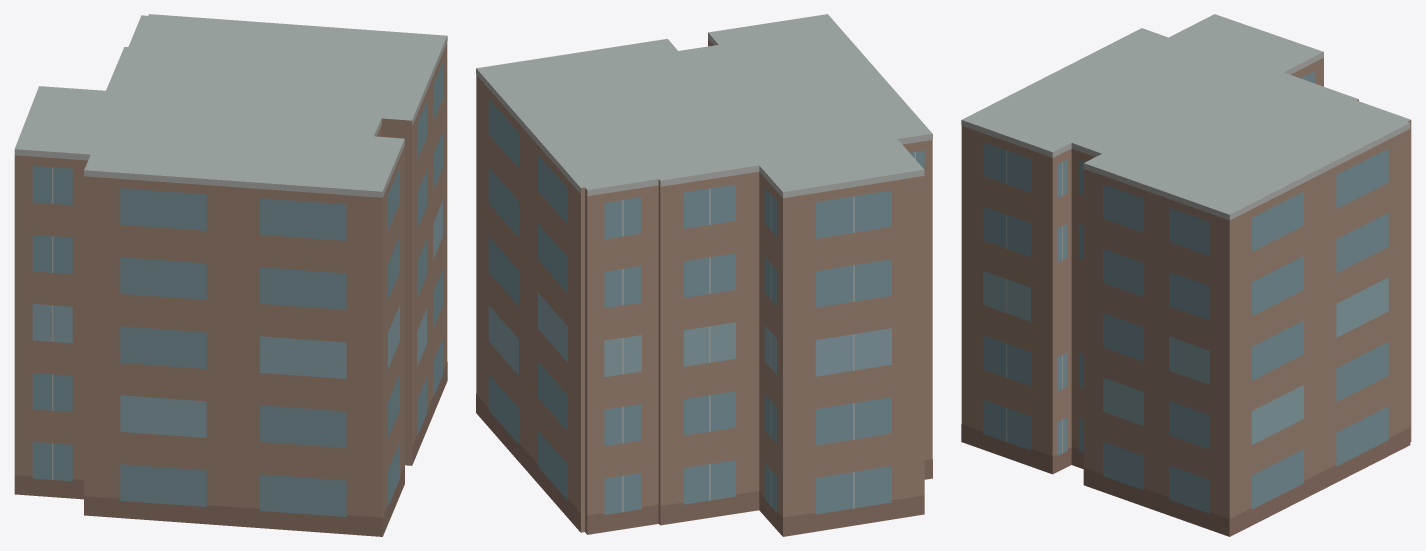
File: survey-upis-32965376.glb
3 views of the same model, side by side, from view 1: azimuth 30°, elevation 25°; view 2: azimuth 150°, elevation 25°; view 3: azimuth 270°, elevation 25° (orthographic). The views are drawn at different scales.
Parts seen in each view (by area): view 1: survey-upis-32965376.tmp; view 2: survey-upis-32965376.tmp; view 3: survey-upis-32965376.tmp.
Part boxes in pixels (box(x1,y1,x2,y2)): survey-upis-32965376.tmp: box(14, 14, 447, 536); survey-upis-32965376.tmp: box(476, 14, 932, 536); survey-upis-32965376.tmp: box(961, 14, 1411, 536).
Size of the model in its own units: 18.46 by 13.8 by 17.48.
